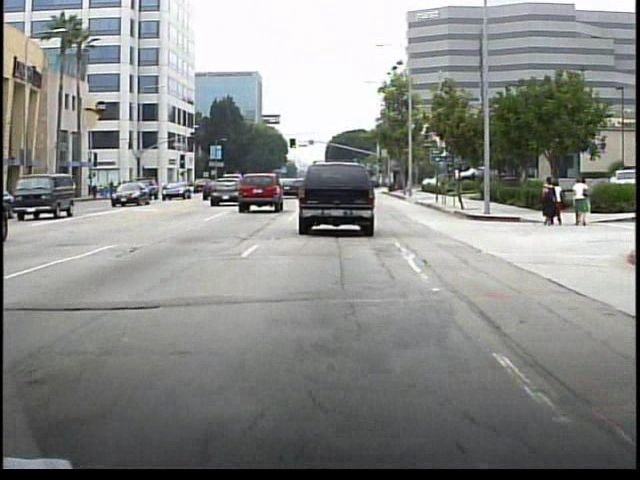person: (571, 175, 590, 228), (540, 176, 556, 229), (553, 180, 565, 227)
